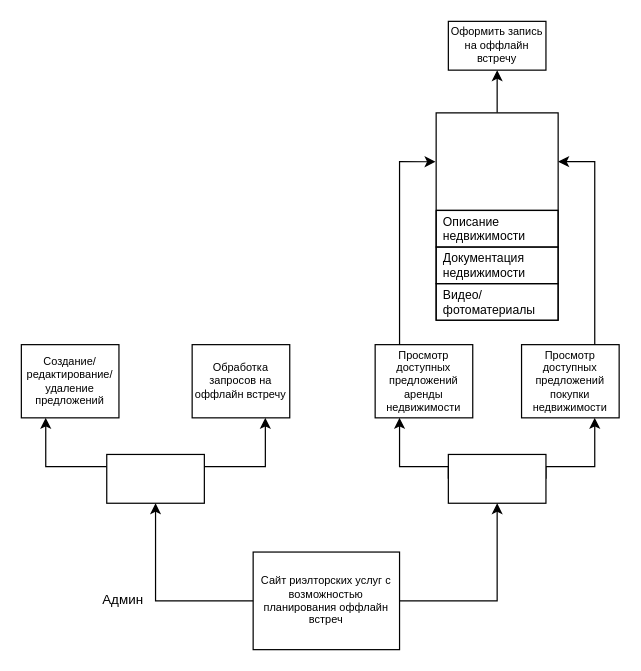
This 641x671 diagram has some shape labels left out. The box of each missing label's shape, as (x1, y1, x2, y2) in pixels:
Админ-панель: (106, 453, 204, 503)
Главная страница: (447, 453, 546, 503)
Детальный просмотр любого доступного предложения: (435, 112, 558, 320)
